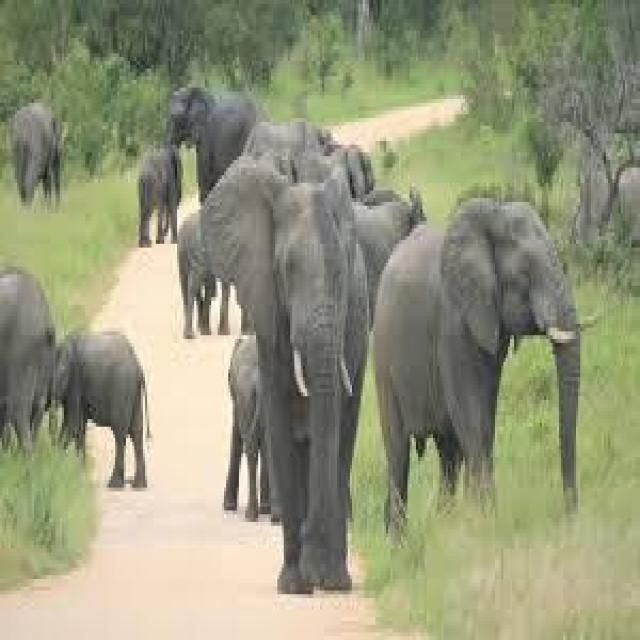Elephant: (376, 194, 598, 534), (203, 160, 371, 598), (55, 328, 156, 488), (168, 88, 262, 152), (11, 99, 66, 206), (136, 141, 182, 240)
